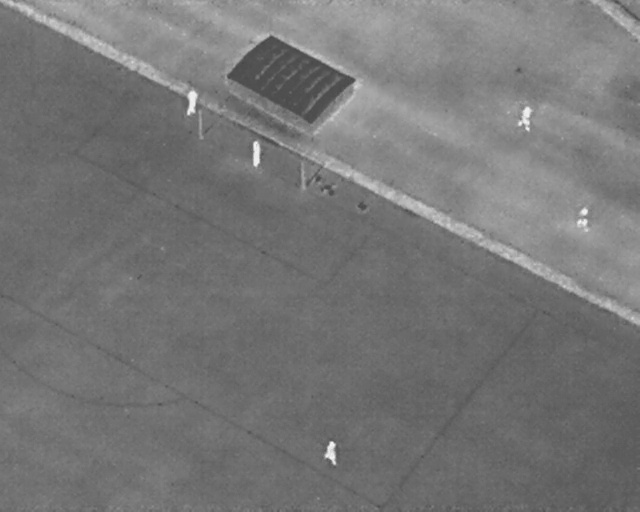Person: (516, 103, 534, 133), (322, 437, 340, 465), (250, 138, 263, 169), (576, 204, 590, 232), (186, 87, 198, 117)
